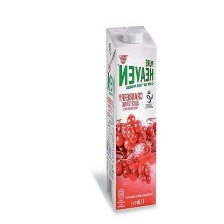carton: (97, 18, 165, 215)
